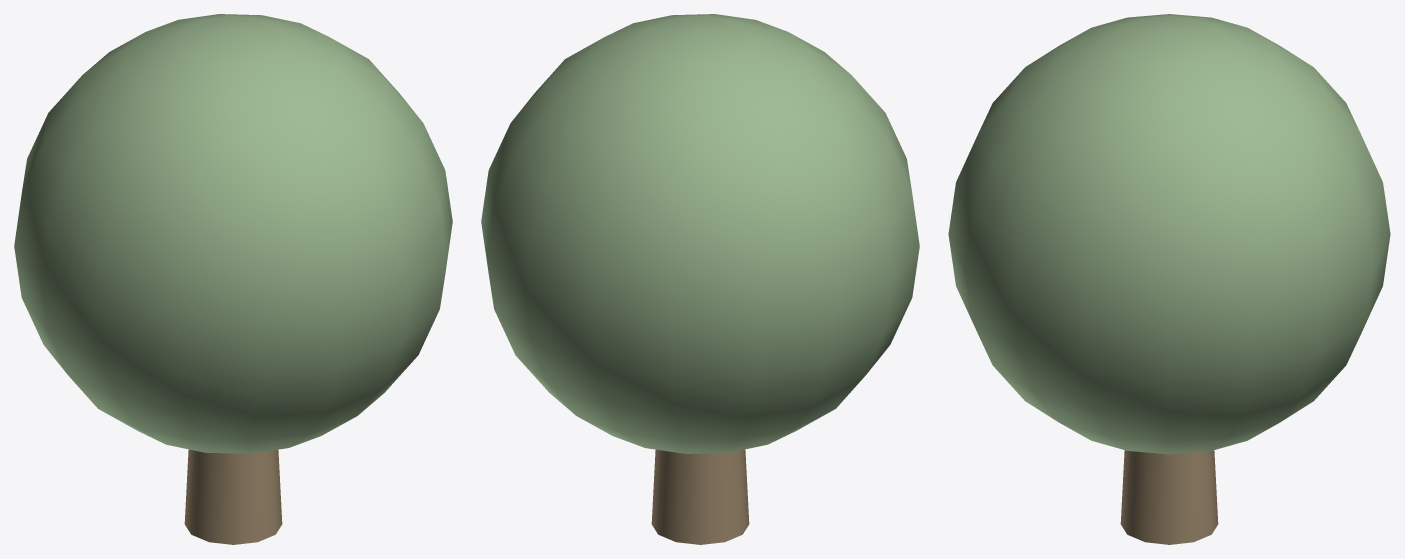
The picture shows the model from 3 angles, left to right: view 1: azimuth 30°, elevation 25°; view 2: azimuth 150°, elevation 25°; view 3: azimuth 270°, elevation 25°; orthographic projection.
Parts seen in each view (by area): view 1: PlaneCanopy, PlaneTrunk; view 2: PlaneCanopy, PlaneTrunk; view 3: PlaneCanopy, PlaneTrunk.
Boxes of the visible parts, x1,y1,x2,y2 form: PlaneCanopy: (14,14,452,453); PlaneTrunk: (184,449,282,544); PlaneCanopy: (481,14,919,453); PlaneTrunk: (651,449,749,544); PlaneCanopy: (948,14,1390,454); PlaneTrunk: (1120,450,1218,544).
Bounding box in the file's own units: 2.9 × 3.55 × 2.9.
